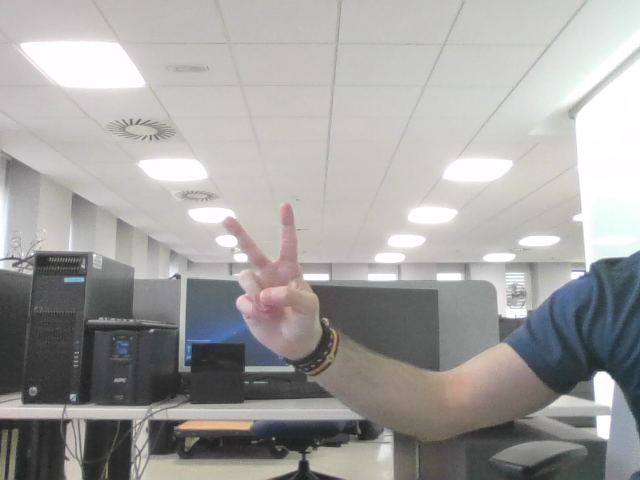2Dedos: (234, 215, 306, 319)
